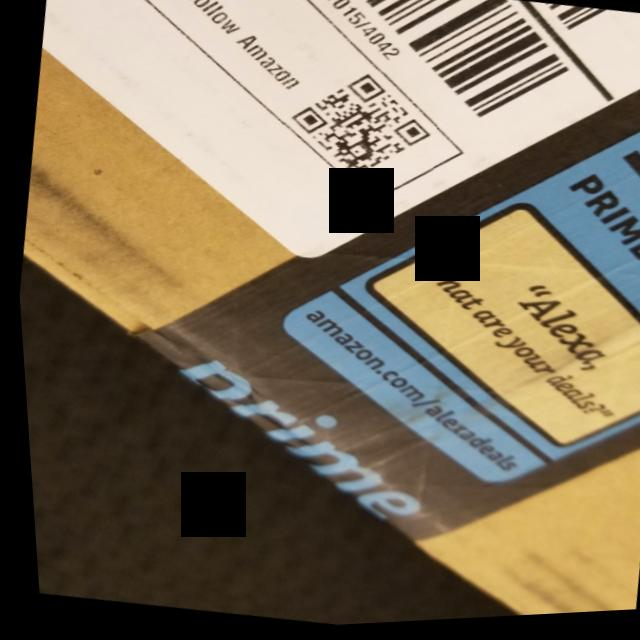QR_CODE: (270, 58, 445, 204)
